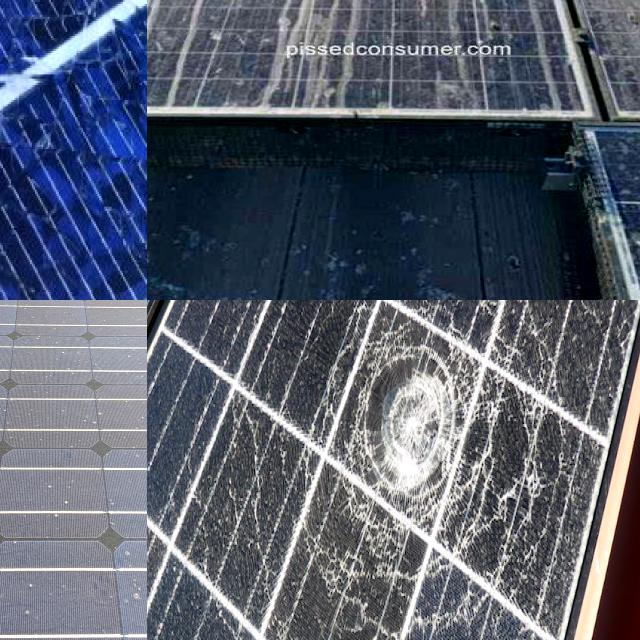bird: (536, 0, 640, 143), (380, 0, 512, 67), (295, 0, 380, 99), (416, 0, 534, 29), (176, 0, 210, 38), (147, 0, 164, 67)
dust: (31, 461, 147, 640), (0, 300, 147, 440), (0, 447, 81, 640), (0, 300, 99, 445), (0, 469, 48, 640), (0, 300, 83, 344), (0, 300, 59, 348), (0, 300, 23, 330)
hotspot: (341, 316, 483, 539), (506, 300, 577, 549), (318, 572, 493, 640)
